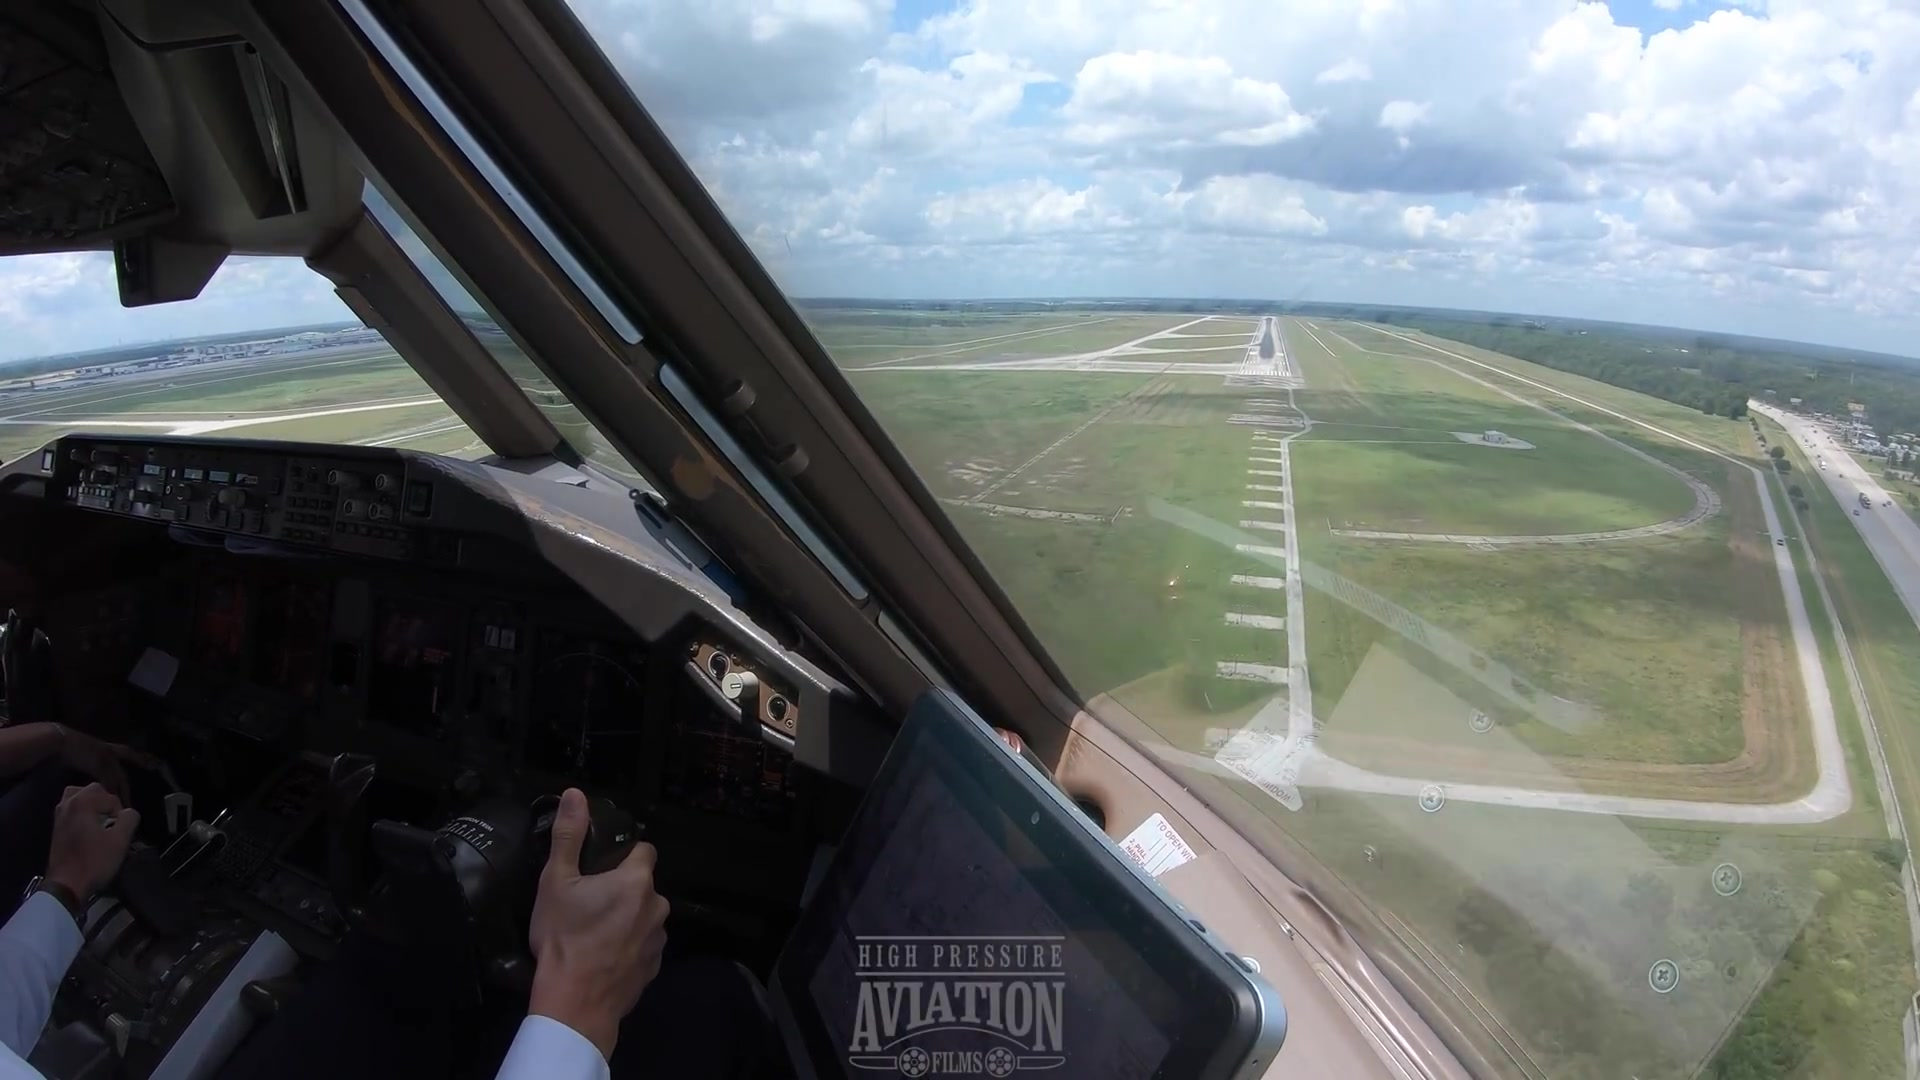entrance: (1240, 368, 1290, 377)
runway: (1237, 315, 1294, 381)
